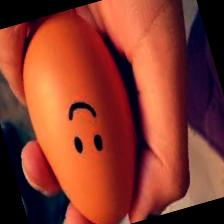egg: (3, 3, 160, 224)
